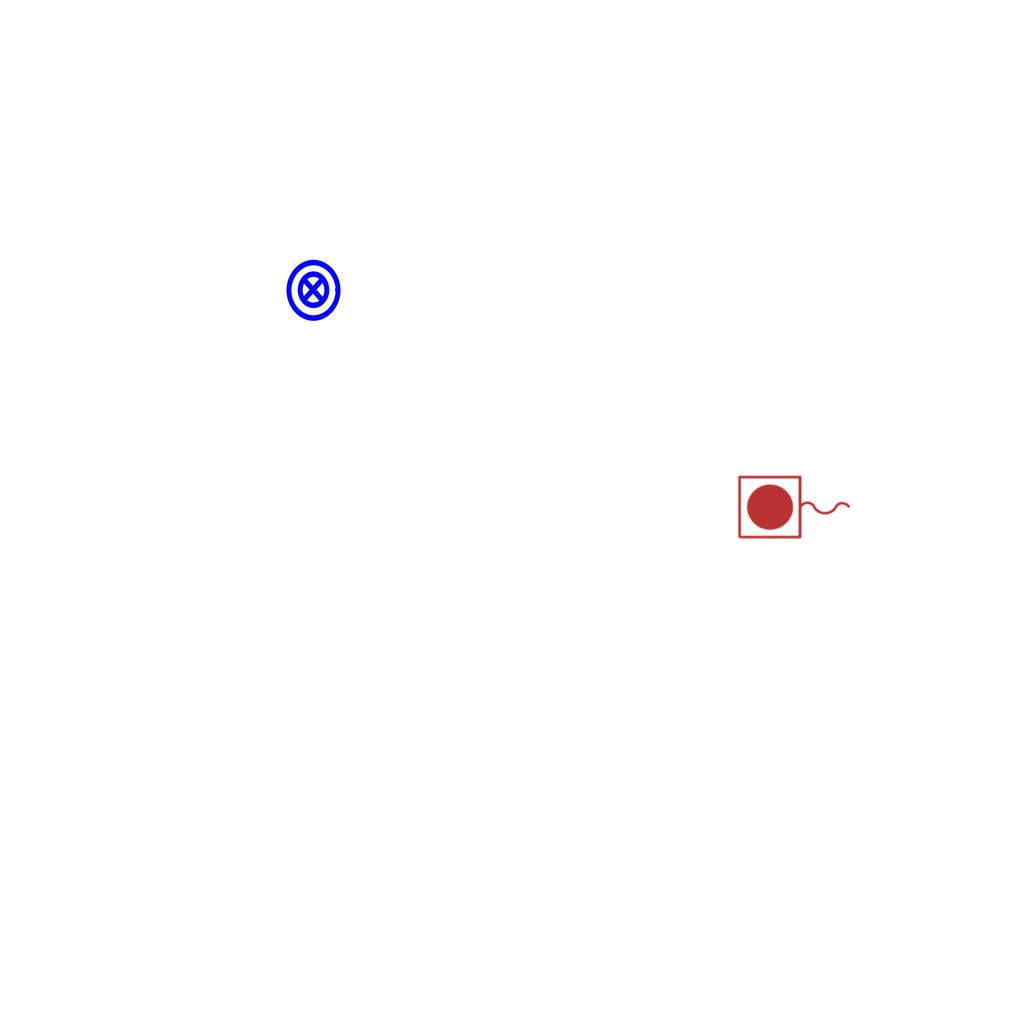Taster_beleuchtet: (280, 257, 346, 323)
Zugtaster: (734, 472, 856, 544)
